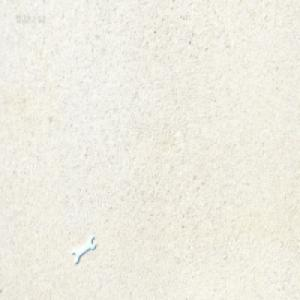Wrench: (71, 236, 96, 264)
